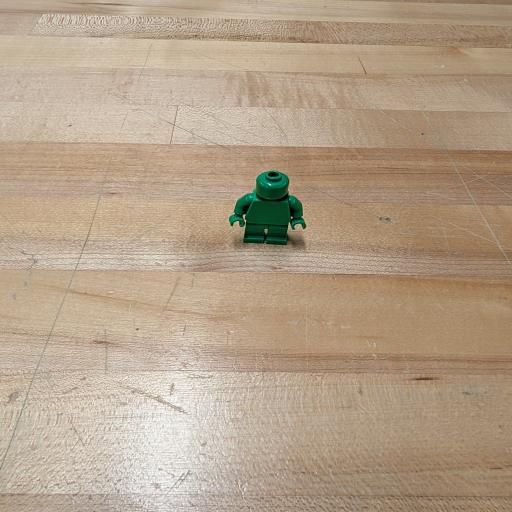Minifig: (230, 170, 306, 244)
